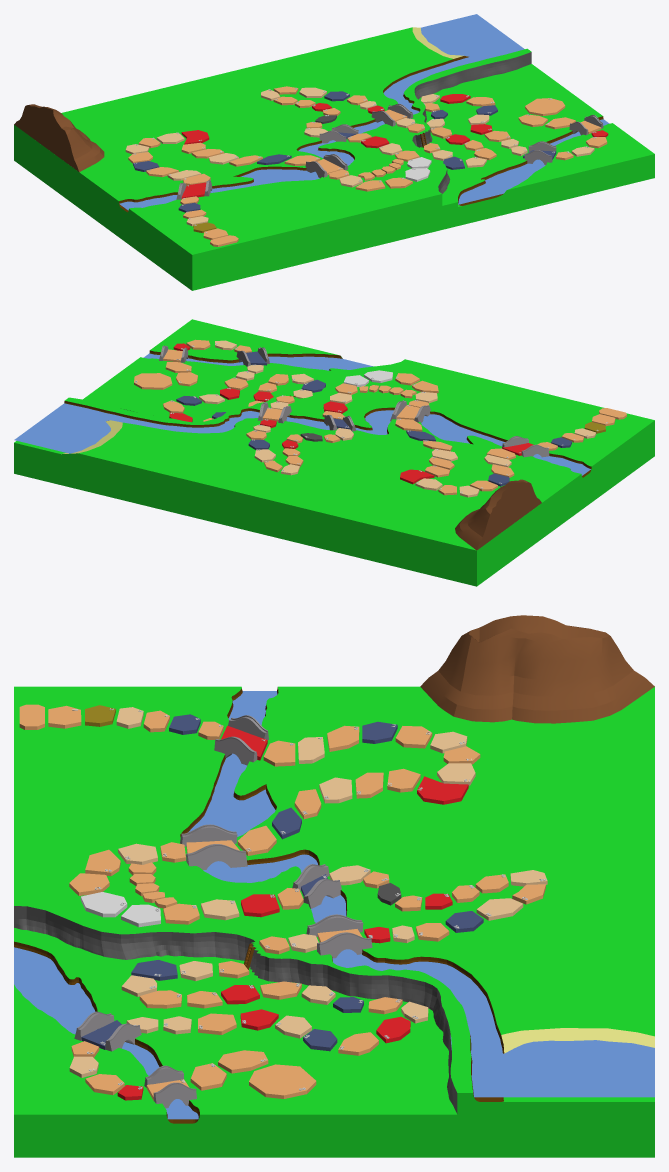
Rendered from Mapa.glb.
3 renders of one model, top to bottom at view 1: azimuth 30°, elevation 25°; view 2: azimuth 150°, elevation 25°; view 3: azimuth 270°, elevation 25°, orthographic. The views are drawn at different scales.
Visible parts, largest first — view 1: TableroBase, Casillas, AguaArriba, Montaña1, BordeAcantilado, AguaAbajo, BordesRios.001, BordesRios, TextoCasillas; view 2: TableroBase, Casillas, AguaArriba, Montaña1, BordesRios.001, AguaAbajo, BordesRios, TextoCasillas; view 3: TableroBase, Casillas, AguaArriba, Montaña1, BordeAcantilado, AguaAbajo, BordesRios.001, BordePlaya, TextoCasillas, Puente2P1, BordesRios, Puente4P2 (+2 smaller).
Part boxes in pixels (x1,y1,x2,y2): TableroBase: (14,27,654,290); Casillas: (125,86,608,246); AguaArriba: (119,14,524,210); Montaña1: (14,104,104,172); BordeAcantilado: (412,52,531,193); AguaAbajo: (458,119,609,204); BordesRios.001: (119,56,468,212); BordesRios: (458,116,603,205); TextoCasillas: (133,88,596,233); TableroBase: (14,319,654,586); Casillas: (134,339,626,497); AguaArriba: (14,403,590,475); Montaña1: (455,479,541,550); BordesRios.001: (64,401,591,477); AguaAbajo: (143,353,373,370); BordesRios: (149,350,342,370); TextoCasillas: (135,343,607,493); TableroBase: (14,686,654,1157); Casillas: (19,704,547,1100); AguaArriba: (188,691,654,1097); Montaña1: (420,615,654,723); BordeAcantilado: (14,906,457,1113); AguaAbajo: (14,947,451,1119); BordesRios.001: (180,687,504,1101); BordePlaya: (501,1028,654,1053); TextoCasillas: (72,708,546,1090); Puente2P1: (186,844,247,869); BordesRios: (14,941,199,1123); Puente4P2: (317,932,372,958).
Bounding box in the file's own units: 72.28 × 11.43 × 48.01.
